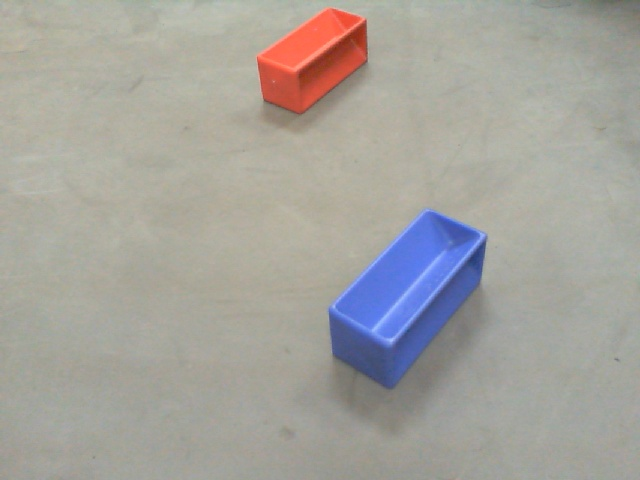BlueSample: (318, 206, 495, 389)
RedSample: (250, 5, 372, 115)
